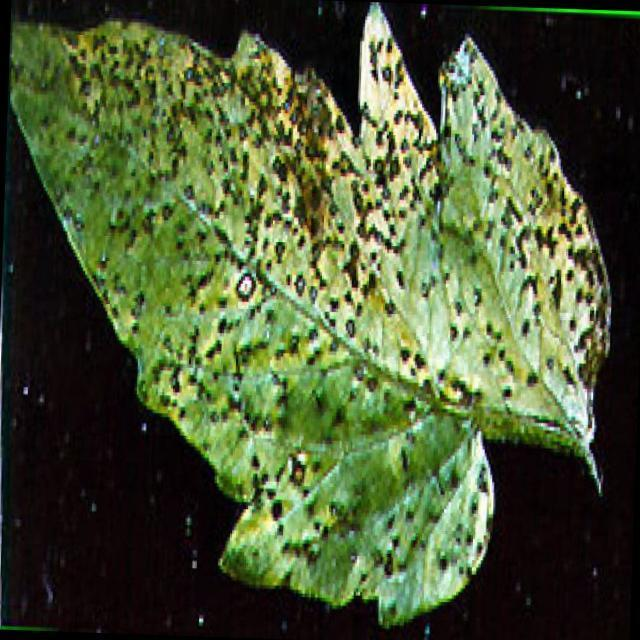Septoria: (0, 19, 453, 612), (428, 47, 620, 449)
